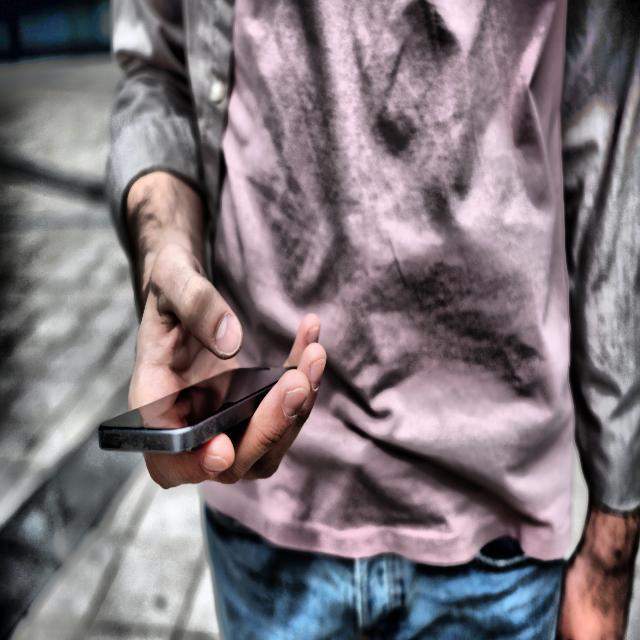Phone: (94, 362, 296, 454)
